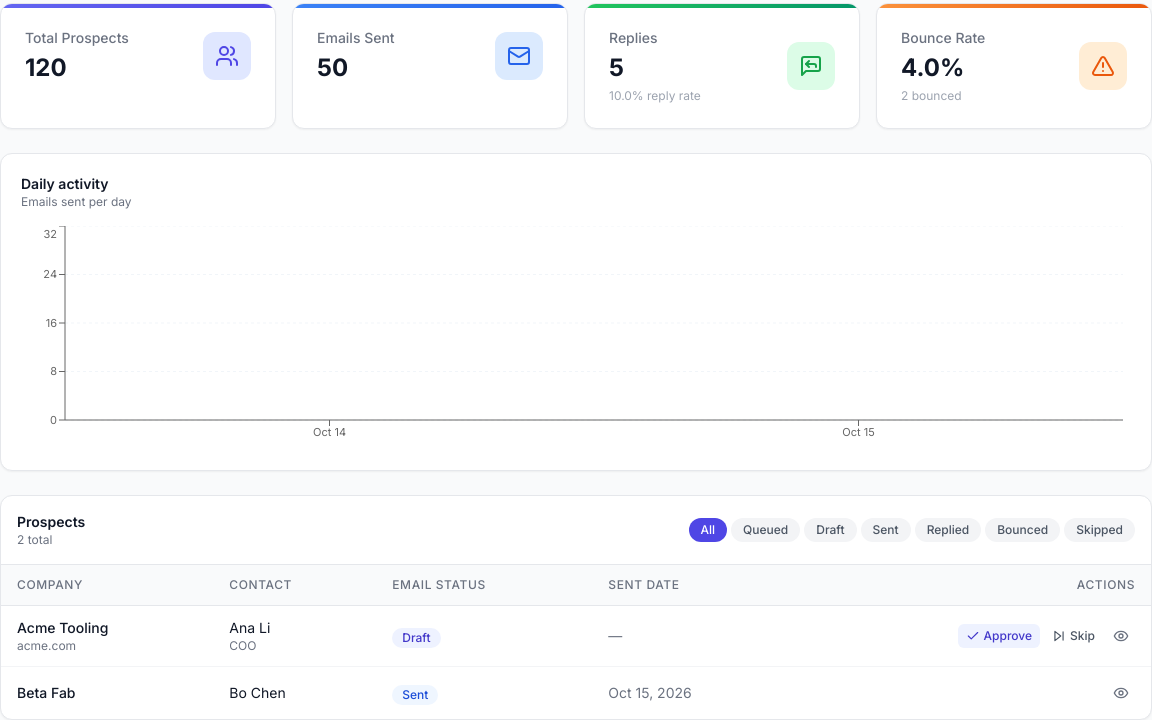
Test case: CampaignDashboard › previews the generated email and approves from the modal
(page scrolled)
Click the button named "Preview email to Ana Li" at [1121, 636], box [1107,622,1135,650]
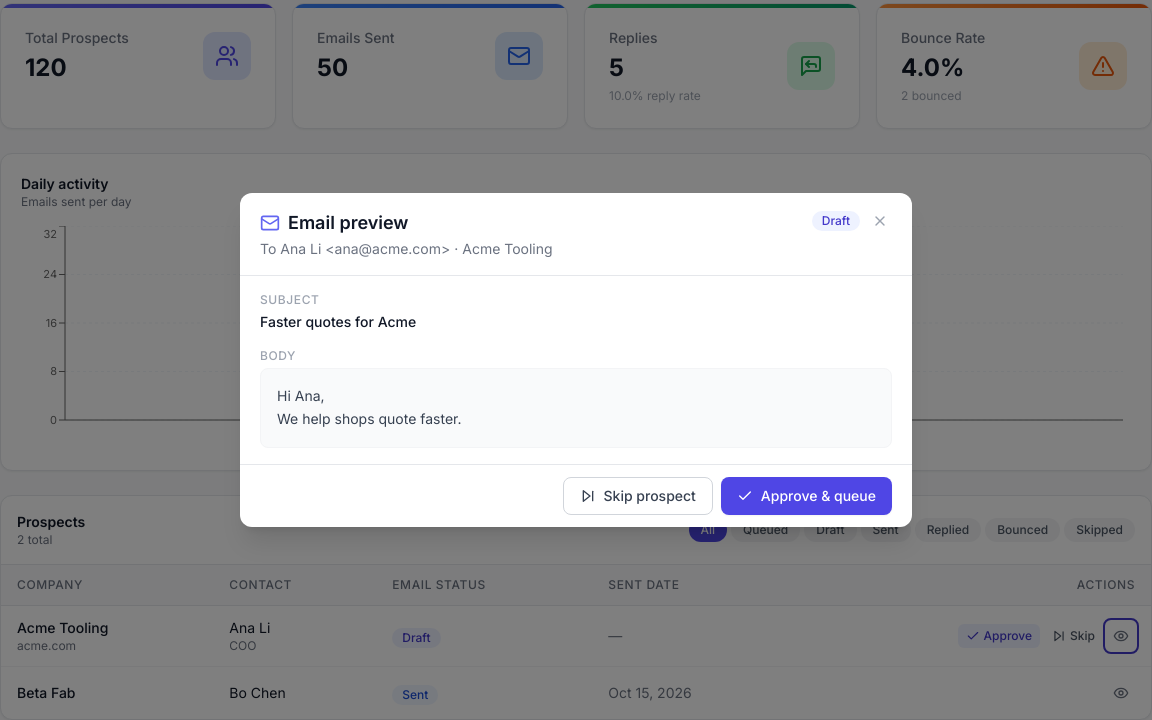
Check: the text with test id "preview-subject" reads "Faster quotes for Acme", box [260,313,416,330]
Check: the element with test id "preview-body" shows "We help shops quote faster.", box [277,410,462,427]
Click the button "Approve & queue" at [806, 496], box [721,477,892,515]
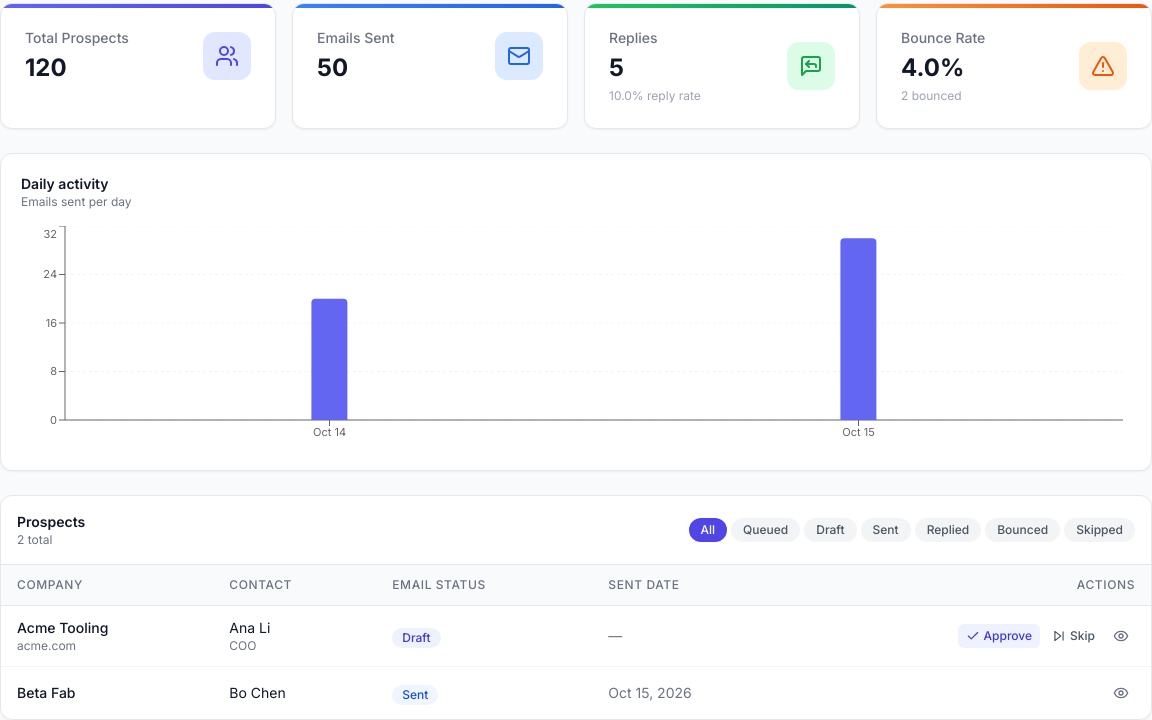
Check: the dialog is gone
